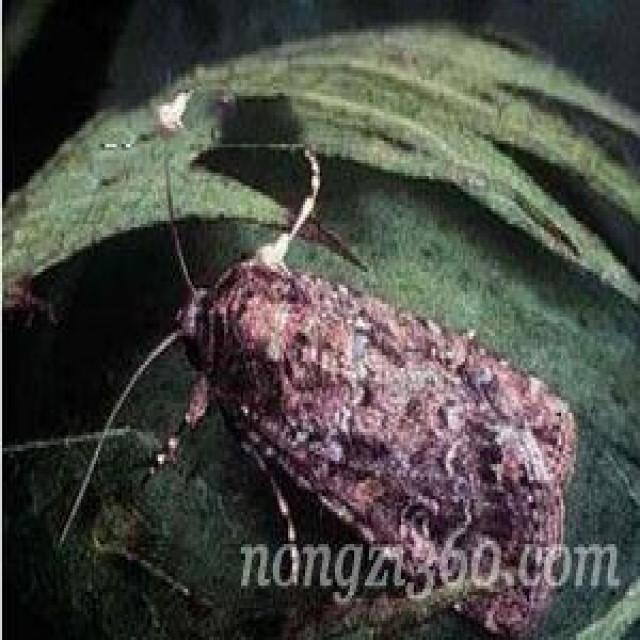BeetArmyWorm-Adult-: (93, 117, 587, 637)
